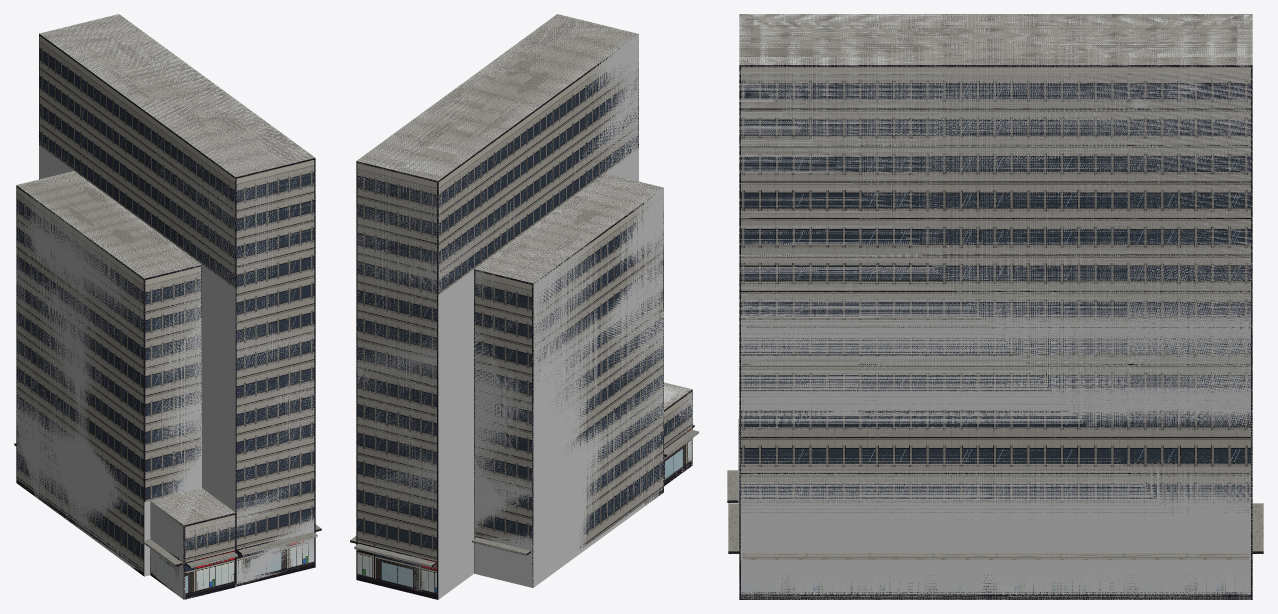
3 views of the same model, side by side, from view 1: azimuth 30°, elevation 25°; view 2: azimuth 150°, elevation 25°; view 3: azimuth 270°, elevation 25° (orthographic). The views are drawn at different scales.
Visible parts, largest first — view 1: 19D-W01, COL_19D-W01_1, COL_19D-W01_0, COL_19D-W01_2; view 2: 19D-W01, COL_19D-W01_1, COL_19D-W01_0, COL_19D-W01_2; view 3: 19D-W01, COL_19D-W01_0.
Boxes of the visible parts, bbox=[...] form: 19D-W01: bbox=[14, 14, 321, 599]; COL_19D-W01_1: bbox=[16, 171, 201, 576]; COL_19D-W01_0: bbox=[39, 14, 315, 586]; COL_19D-W01_2: bbox=[150, 488, 235, 599]; 19D-W01: bbox=[350, 14, 698, 599]; COL_19D-W01_1: bbox=[474, 173, 663, 587]; COL_19D-W01_0: bbox=[356, 14, 638, 599]; COL_19D-W01_2: bbox=[664, 383, 692, 480]; 19D-W01: bbox=[727, 14, 1263, 599]; COL_19D-W01_0: bbox=[739, 14, 1252, 599].
Bounding box in the file's own units: 19.8 × 52.8 × 48.
1 material, 1 textured.
